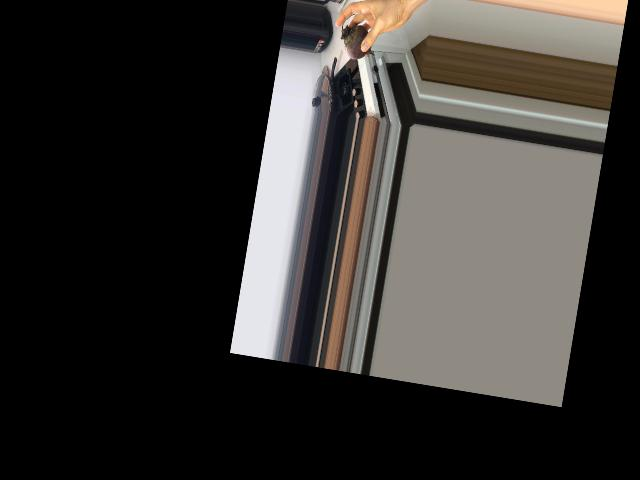beet: (337, 13, 381, 62)
